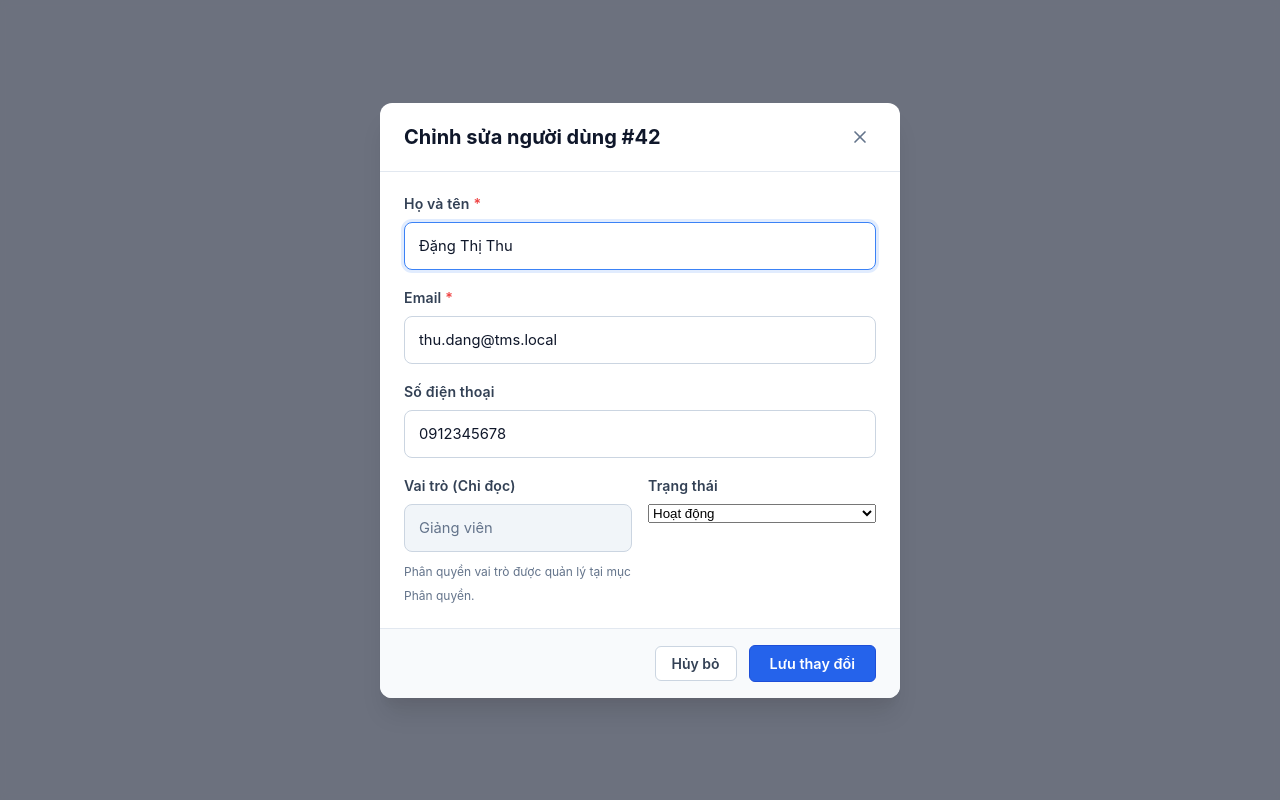
Test: SCRUM-93: Edit User Modal Component › 7. xử lý lỗi 409 DUPLICATE_EMAIL và hiển thị lỗi email tương ứng
Replace the text in the field with test id "input-edit-email" with "duplicate@tms.local" at point(640, 340), box left=404, top=316, right=876, bottom=364
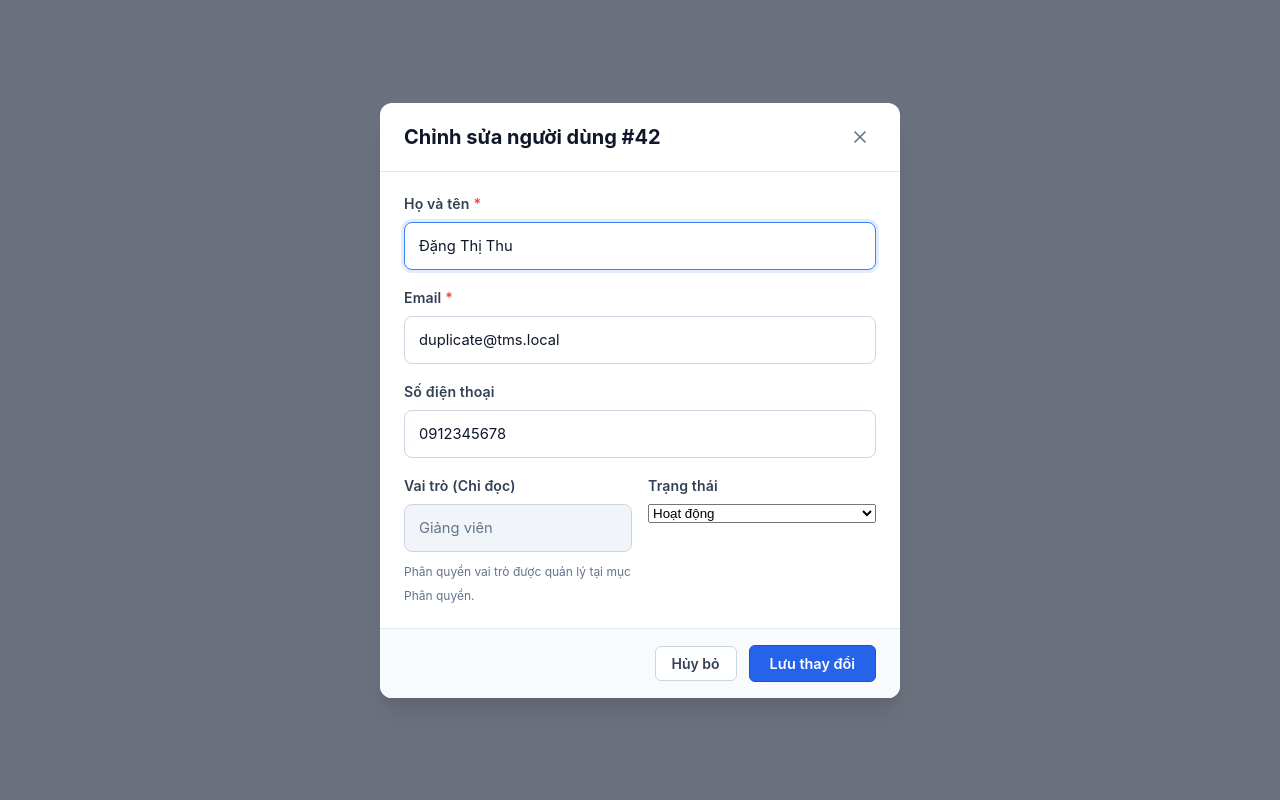
Click the button with test id "btn-submit-edit".
click(812, 663)  # box left=749, top=644, right=876, bottom=682
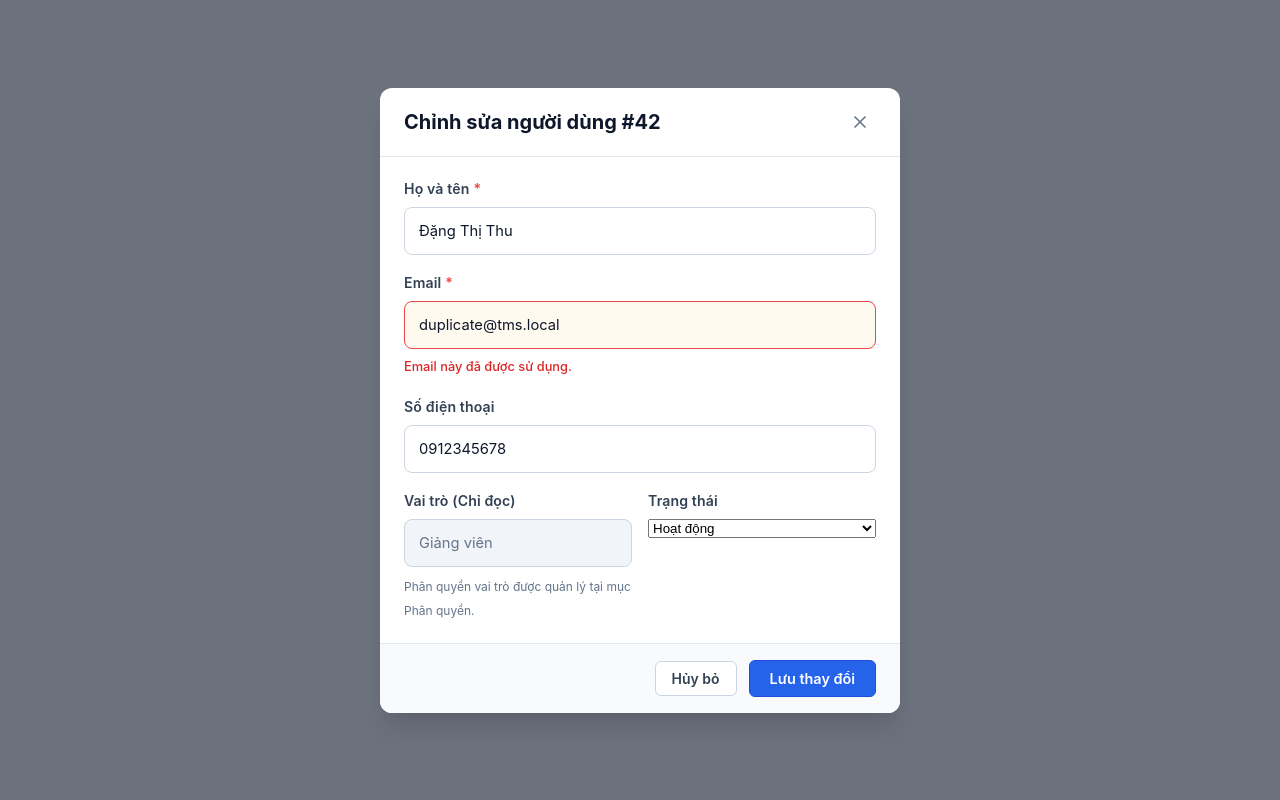
Expected: the text "Email này đã được sử dụng." is shown, left=404, top=358, right=572, bottom=374
